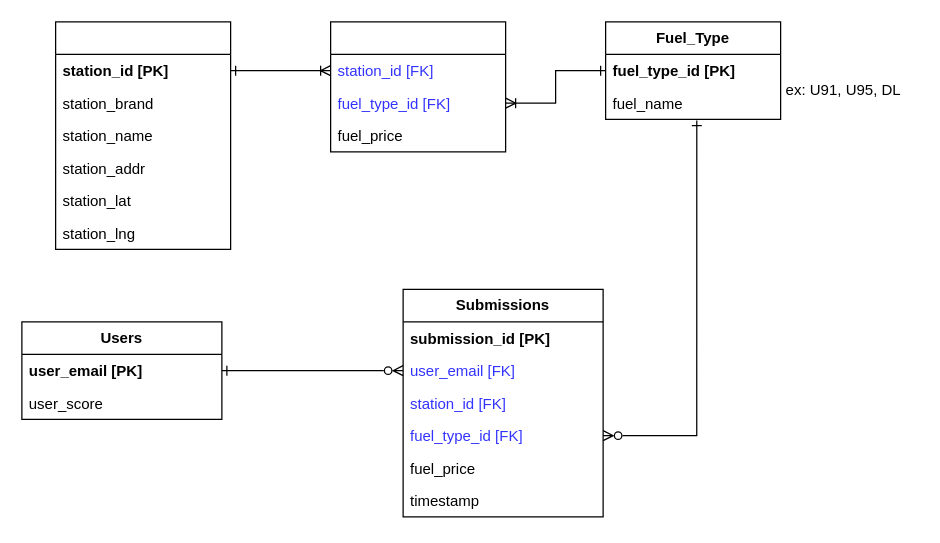
Some shapes in this 940 by 543 pixel diagram are drawn without their labels. Each missing label, with the box of its shape:
StationFuel: (329, 21, 506, 152)
Stations: (54, 21, 231, 249)
